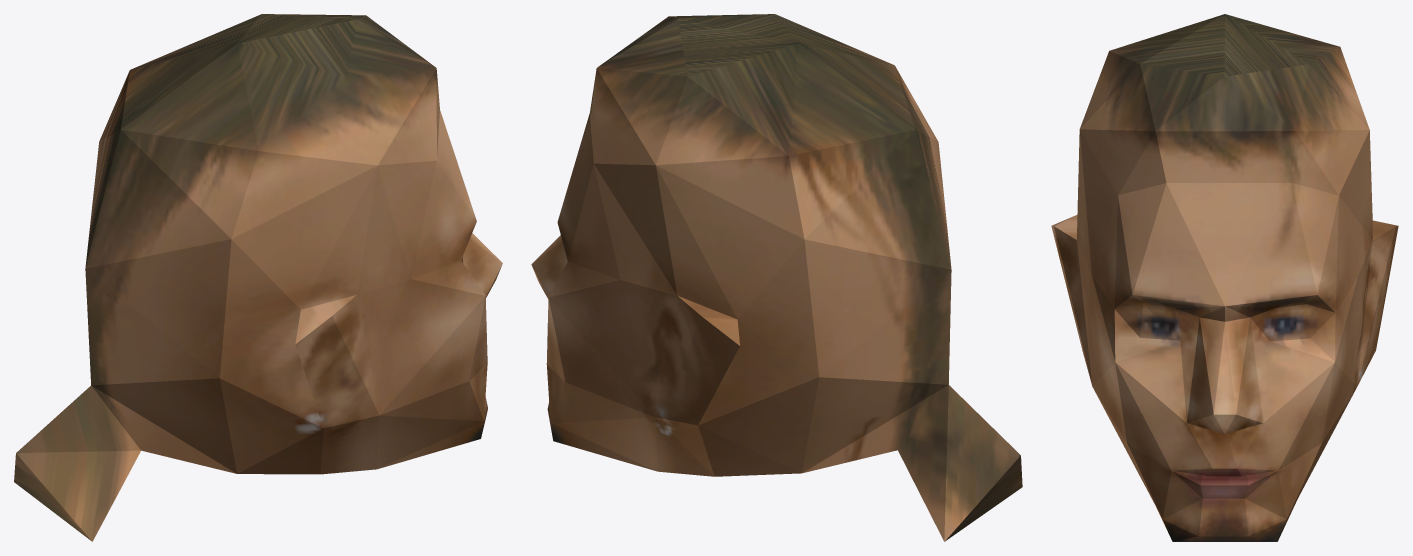
File: PFEIFFER.glb
3 renders of one model, left to right at view 1: azimuth 30°, elevation 25°; view 2: azimuth 150°, elevation 25°; view 3: azimuth 270°, elevation 25°, orthographic.
Parts seen in each view (by area): view 1: zm_Morph; view 2: zm_Morph; view 3: zm_Morph.
Boxes of the visible parts, x1,y1,x2,y2 form: zm_Morph: (14, 14, 502, 541); zm_Morph: (531, 14, 1022, 541); zm_Morph: (1051, 14, 1398, 541).
Size of the model in its own units: 0.2879 by 0.2464 by 0.1823.
3 materials, 3 textured.
